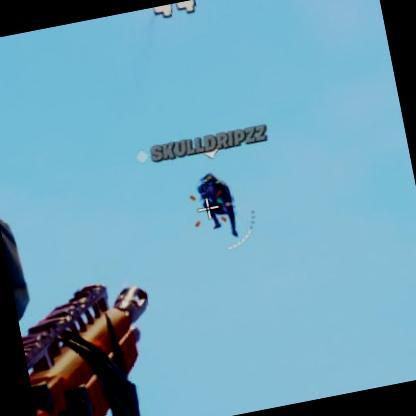person: (192, 162, 245, 252)
